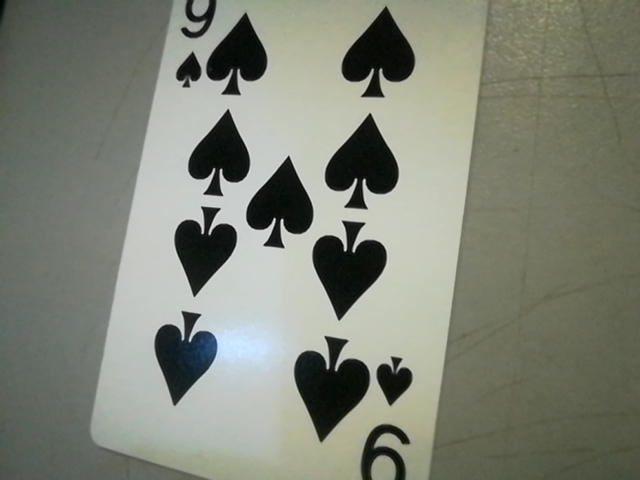ht 9: (355, 344, 429, 480)
